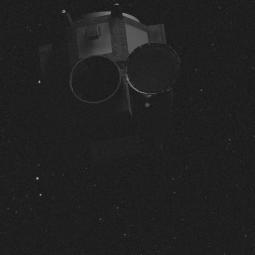cheops: (44, 16, 182, 137)
